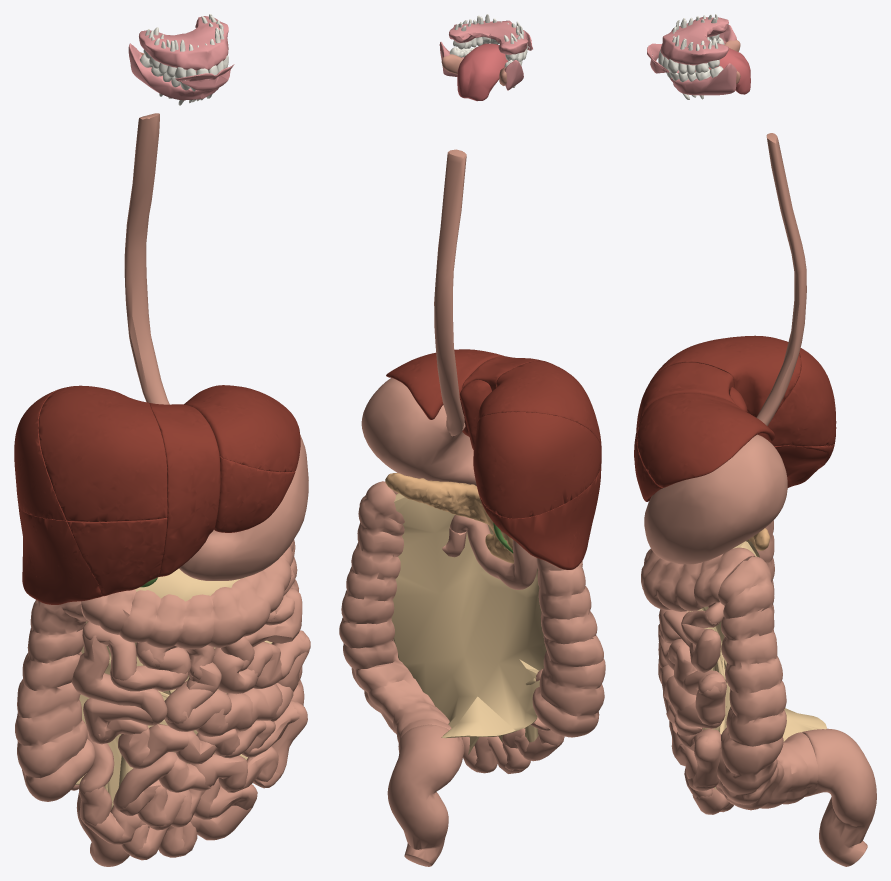
File: digestorio.glb
The picture shows the model from 3 angles, left to right: view 1: azimuth 30°, elevation 25°; view 2: azimuth 150°, elevation 25°; view 3: azimuth 270°, elevation 25°; orthographic projection. The views are drawn at different scales.
Visible parts, largest first — view 1: FMA15746, FMA14545, FMA16983, FMA14546, FMA14964, FMA15742, FMA14965, FMA15739, FMA14966, FMA7131, FMA7148, FMA15743 (+12 smaller); view 2: FMA14647, FMA14547, FMA14545, FMA15747, FMA15746, FMA7148, FMA14544, FMA7131, FMA15745, FMA14966, FMA15739, FMA7206 (+7 smaller); view 3: FMA14547, FMA7148, FMA15746, FMA15739, FMA14544, FMA14546, FMA7131, FMA16982, FMA16981, FMA15742, FMA59763, FMA14964 (+10 smaller).
Boxes of the visible parts, x1,y1,x2,y2 form: FMA15746: (15, 385, 167, 521); FMA14545: (15, 600, 95, 801); FMA16983: (71, 621, 252, 736); FMA14546: (81, 540, 293, 649); FMA14964: (83, 698, 307, 777); FMA15742: (149, 403, 220, 577); FMA14965: (113, 746, 281, 830); FMA15739: (184, 385, 300, 471); FMA14966: (78, 778, 257, 860); FMA7131: (124, 113, 169, 404); FMA7148: (179, 435, 308, 580); FMA15743: (67, 517, 167, 596); FMA14647: (391, 492, 546, 738); FMA14547: (339, 481, 464, 755); FMA14545: (532, 558, 605, 737); FMA15747: (478, 412, 601, 518); FMA15746: (473, 360, 601, 517); FMA7148: (361, 377, 476, 486); FMA14544: (387, 724, 463, 866); FMA7131: (434, 149, 466, 436); FMA15745: (482, 462, 601, 569); FMA14966: (462, 728, 564, 773); FMA15739: (386, 349, 504, 419); FMA7206: (449, 515, 537, 589); FMA14547: (715, 556, 818, 810); FMA7148: (644, 434, 787, 564); FMA15746: (648, 335, 836, 446); FMA15739: (637, 393, 774, 487); FMA14544: (802, 728, 876, 866); FMA14546: (641, 547, 755, 611); FMA7131: (756, 133, 806, 425); FMA16982: (664, 642, 726, 728); FMA16981: (658, 602, 724, 672); FMA15742: (636, 362, 735, 431); FMA59763: (660, 17, 728, 65); FMA14964: (663, 691, 721, 791).
Bounding box in the file's own units: 0.2443 × 0.7272 × 0.1911.
